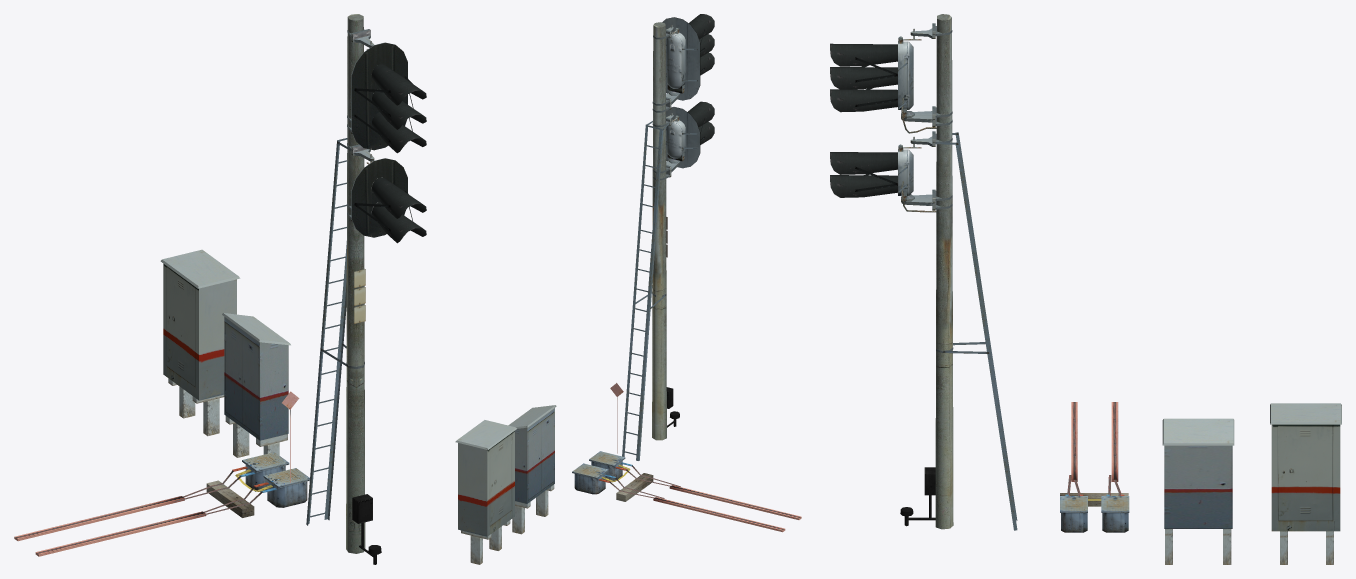
The model's file is ab_exit.gltf.
The picture shows the model from 3 angles, left to right: view 1: azimuth 30°, elevation 25°; view 2: azimuth 150°, elevation 25°; view 3: azimuth 270°, elevation 25°; orthographic projection. The views are drawn at different scales.
Parts seen in each view (by area): view 1: Scene Root_релейный ящик_релейный ящик-, Scene Root_релейный ящик2_релейный ящик, Scene Root_Signal_Signal-OFFSET_Signal-GEODE_TransNorm1_0, Scene Root_лестница_лестница-GEODE_TransNorm1_0, Scene Root_Object01_Object01-GEODE_TransNorm1_0, Scene Root_Подводы_Подводы-GEODE_TransNorm1_0, Scene Root_Object02_Object02-OFFSET_Object02-GEODE_TransNorm, Scene Root_Дроссель2_Дроссель2-GEODE_TransNorm1, Scene Root_Box17_Box17-GEODE_TransNorm1_0, Scene Root_козырёк-1_козырёк-1-OFFSET_козыр, Scene Root_козырёк-05_козырёк-05-OFFSET_козы, Scene Root_Дроссель1_Дроссель1-GEODE_TransNorm1 (+5 smaller); view 2: Scene Root_релейный ящик_релейный ящик-, Scene Root_Signal_Signal-OFFSET_Signal-GEODE_TransNorm1_0, Scene Root_релейный ящик2_релейный ящик, Scene Root_лестница_лестница-GEODE_TransNorm1_0, Scene Root_Подводы_Подводы-GEODE_TransNorm1_0, Scene Root_Щит головки_Щит головки-GEODE_Tr, Scene Root_модуль ламп_модуль ламп-OFFSET_, Scene Root_Щит головки01_Щит головки01-OFFS, Scene Root_Дроссель1_Дроссель1-GEODE_TransNorm1, Scene Root_Box17_Box17-GEODE_TransNorm1_0, Scene Root_модуль ламп-2_модуль ламп-2-OFFS, Scene Root_Дроссель2_Дроссель2-GEODE_TransNorm1 (+2 smaller); view 3: Scene Root_релейный ящик_релейный ящик-, Scene Root_Signal_Signal-OFFSET_Signal-GEODE_TransNorm1_0, Scene Root_релейный ящик2_релейный ящик, Scene Root_лестница_лестница-GEODE_TransNorm1_0, Scene Root_Подводы_Подводы-GEODE_TransNorm1_0, Scene Root_козырёк-05_козырёк-05-OFFSET_козы, Scene Root_козырёк-1_козырёк-1-OFFSET_козыр, Scene Root_козырёк-03_козырёк-03-OFFSET_козы, Scene Root_козырёк-04_козырёк-04-OFFSET_козы, Scene Root_козырёк-02_козырёк-02-OFFSET_козы, Scene Root_модуль ламп_модуль ламп-OFFSET_, Scene Root_Дроссель1_Дроссель1-GEODE_TransNorm1 (+2 smaller).
Part boxes in pixels (left/top/right/bottom): Scene Root_релейный ящик_релейный ящик-: left=160, top=249, right=240, bottom=400; Scene Root_релейный ящик2_релейный ящик: left=222, top=313, right=290, bottom=457; Scene Root_Signal_Signal-OFFSET_Signal-GEODE_TransNorm1_0: left=346, top=14, right=365, bottom=553; Scene Root_лестница_лестница-GEODE_TransNorm1_0: left=306, top=138, right=364, bottom=525; Scene Root_Object01_Object01-GEODE_TransNorm1_0: left=351, top=42, right=407, bottom=150; Scene Root_Подводы_Подводы-GEODE_TransNorm1_0: left=14, top=466, right=276, bottom=556; Scene Root_Object02_Object02-OFFSET_Object02-GEODE_TransNorm: left=351, top=158, right=407, bottom=237; Scene Root_Дроссель2_Дроссель2-GEODE_TransNorm1: left=263, top=468, right=309, bottom=507; Scene Root_Box17_Box17-GEODE_TransNorm1_0: left=168, top=378, right=224, bottom=436; Scene Root_козырёк-1_козырёк-1-OFFSET_козыр: left=372, top=64, right=426, bottom=105; Scene Root_козырёк-05_козырёк-05-OFFSET_козы: left=372, top=177, right=426, bottom=218; Scene Root_Дроссель1_Дроссель1-GEODE_TransNorm1: left=242, top=452, right=289, bottom=491; Scene Root_релейный ящик_релейный ящик-: left=455, top=420, right=516, bottom=536; Scene Root_Signal_Signal-OFFSET_Signal-GEODE_TransNorm1_0: left=652, top=22, right=666, bottom=440; Scene Root_релейный ящик2_релейный ящик: left=508, top=405, right=556, bottom=534; Scene Root_лестница_лестница-GEODE_TransNorm1_0: left=622, top=121, right=669, bottom=460; Scene Root_Подводы_Подводы-GEODE_TransNorm1_0: left=599, top=462, right=801, bottom=532; Scene Root_Щит головки_Щит головки-GEODE_Tr: left=662, top=17, right=699, bottom=100; Scene Root_модуль ламп_модуль ламп-OFFSET_: left=666, top=32, right=685, bottom=88; Scene Root_Щит головки01_Щит головки01-OFFS: left=666, top=107, right=699, bottom=168; Scene Root_Дроссель1_Дроссель1-GEODE_TransNorm1: left=572, top=463, right=608, bottom=494; Scene Root_Box17_Box17-GEODE_TransNorm1_0: left=461, top=520, right=510, bottom=564; Scene Root_модуль ламп-2_модуль ламп-2-OFFS: left=666, top=120, right=685, bottom=158; Scene Root_Дроссель2_Дроссель2-GEODE_TransNorm1: left=589, top=451, right=625, bottom=481; Scene Root_релейный ящик_релейный ящик-: left=1270, top=403, right=1341, bottom=531; Scene Root_Signal_Signal-OFFSET_Signal-GEODE_TransNorm1_0: left=935, top=14, right=953, bottom=529; Scene Root_релейный ящик2_релейный ящик: left=1162, top=418, right=1234, bottom=564; Scene Root_лестница_лестница-GEODE_TransNorm1_0: left=935, top=132, right=1017, bottom=530; Scene Root_Подводы_Подводы-GEODE_TransNorm1_0: left=1065, top=402, right=1124, bottom=495; Scene Root_козырёк-05_козырёк-05-OFFSET_козы: left=830, top=152, right=897, bottom=174; Scene Root_козырёк-1_козырёк-1-OFFSET_козыр: left=830, top=43, right=897, bottom=66; Scene Root_козырёк-03_козырёк-03-OFFSET_козы: left=830, top=89, right=897, bottom=112; Scene Root_козырёк-04_козырёк-04-OFFSET_козы: left=830, top=175, right=897, bottom=197; Scene Root_козырёк-02_козырёк-02-OFFSET_козы: left=830, top=67, right=897, bottom=89; Scene Root_модуль ламп_модуль ламп-OFFSET_: left=898, top=41, right=913, bottom=109; Scene Root_Дроссель1_Дроссель1-GEODE_TransNorm1: left=1101, top=496, right=1129, bottom=532.
Bounding box in the file's own units: 4.6 × 7.97 × 6.98.
1 material, 1 textured.
